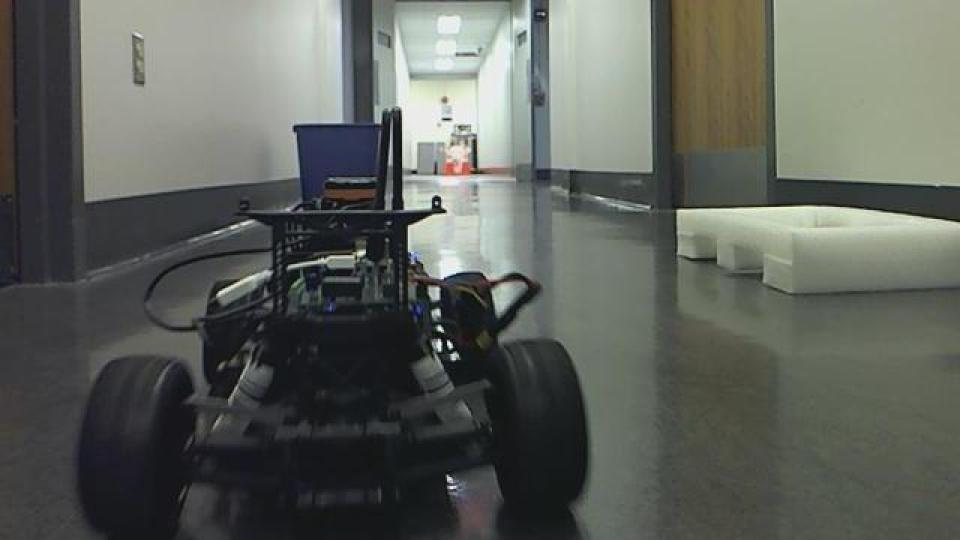car: (73, 105, 592, 537)
